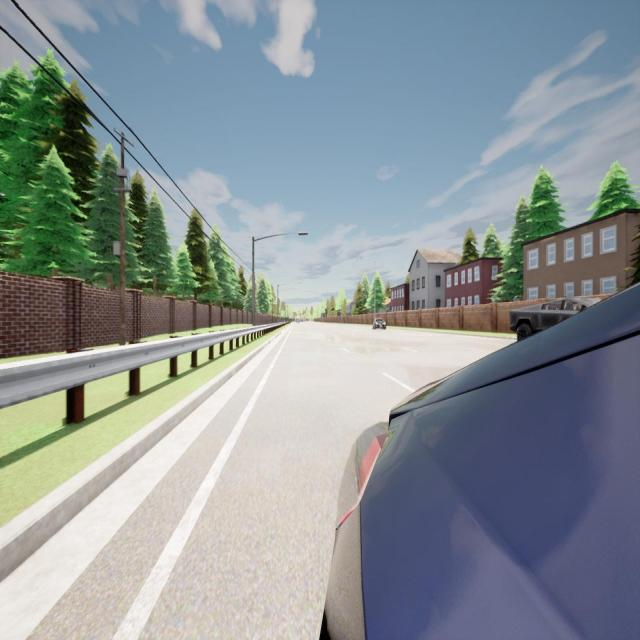Vehicle: (326, 284, 640, 637), (510, 298, 600, 342), (373, 318, 386, 330), (302, 318, 310, 323), (296, 320, 300, 323)
